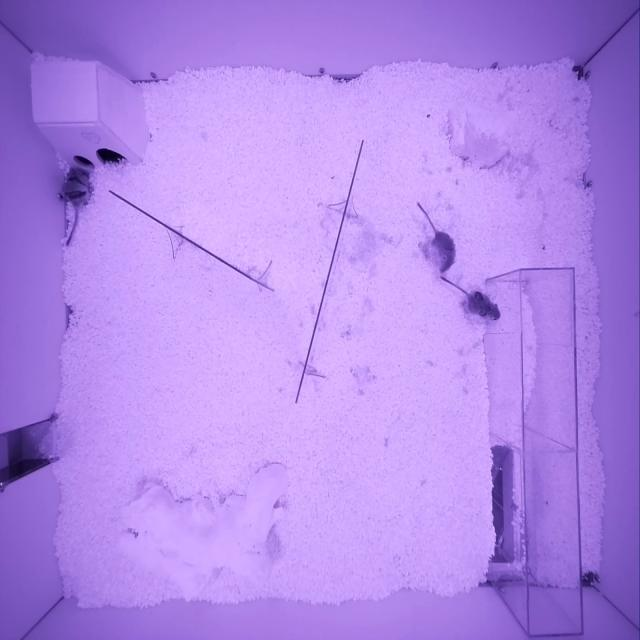pup_fluffy: (430, 231, 458, 272)
pup_h_stripe: (62, 168, 90, 204)
pup_spotted: (466, 291, 501, 322)
